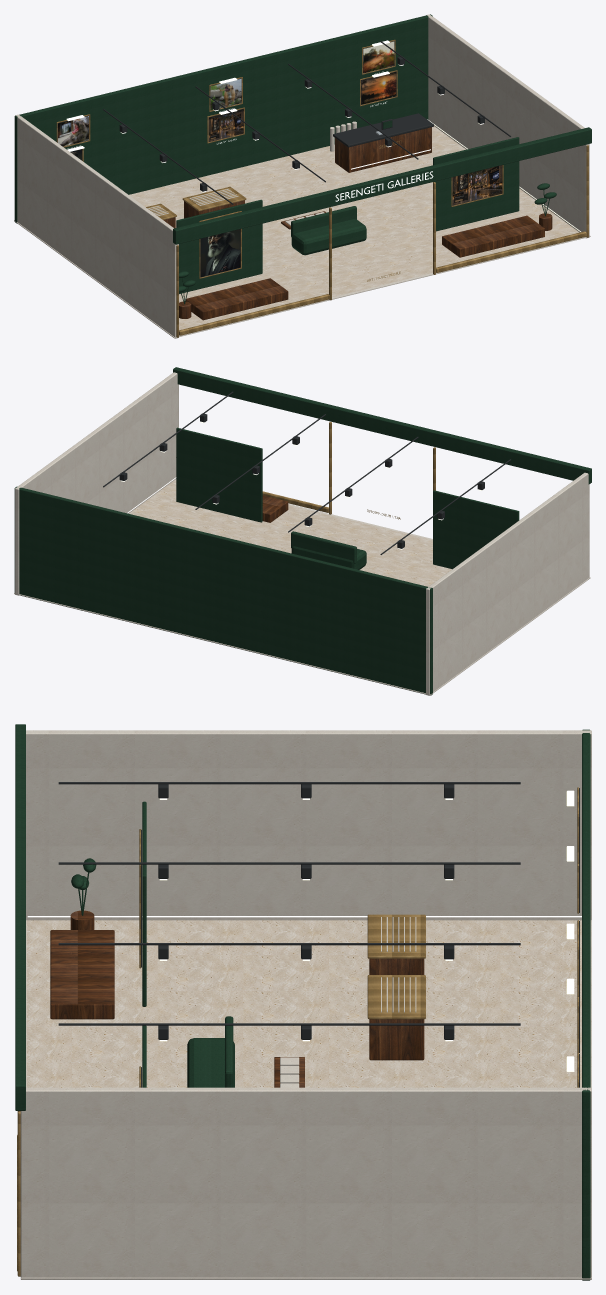
Rendered from Serengeti-Galleries.glb.
3 renders of one model, top to bottom at view 1: azimuth 30°, elevation 25°; view 2: azimuth 150°, elevation 25°; view 3: azimuth 270°, elevation 25°, orthographic. The views are drawn at different scales.
Parts seen in each view (by area): view 1: Higgsfield Serengeti green linen, Higgsfield gallery plaster, Serengeti ivory stone, Higgsfield walnut retail furniture, Higgsfield satin brass, Powder coated graphite, Window exhibition bill-foster.png, Window exhibition serengeti-gallery.png, Serengeti original detroit-sunset.jpg, Serengeti original serengeti-gallery.png, Serengeti original monarch.jpg, Serengeti original cat-portrait.jpg (+3 smaller); view 2: Higgsfield Serengeti green linen, Higgsfield gallery plaster, Serengeti ivory stone, Powder coated graphite, Higgsfield satin brass, Higgsfield walnut retail furniture; view 3: Higgsfield gallery plaster, Serengeti ivory stone, Higgsfield Serengeti green linen, Higgsfield walnut retail furniture, Powder coated graphite, Higgsfield satin brass, Warm retail lighting.
Part boxes in pixels (<box>): Higgsfield Serengeti green linen: <box>14,14,591,304</box>; Higgsfield gallery plaster: <box>14,14,590,338</box>; Serengeti ivory stone: <box>129,126,579,330</box>; Higgsfield walnut retail furniture: <box>163,127,552,320</box>; Higgsfield satin brass: <box>56,39,588,337</box>; Powder coated graphite: <box>57,41,510,277</box>; Window exhibition bill-foster.png: <box>200,229,240,276</box>; Window exhibition serengeti-gallery.png: <box>452,165,502,205</box>; Serengeti original detroit-sunset.jpg: <box>361,72,396,104</box>; Serengeti original serengeti-gallery.png: <box>209,109,243,141</box>; Serengeti original monarch.jpg: <box>363,41,394,72</box>; Serengeti original cat-portrait.jpg: <box>58,116,88,146</box>; Higgsfield Serengeti green linen: <box>14,367,591,695</box>; Higgsfield gallery plaster: <box>14,372,590,695</box>; Serengeti ivory stone: <box>129,479,451,586</box>; Powder coated graphite: <box>103,391,510,554</box>; Higgsfield satin brass: <box>262,422,435,519</box>; Higgsfield walnut retail furniture: <box>262,495,288,522</box>; Higgsfield gallery plaster: <box>20,730,591,1279</box>; Serengeti ivory stone: <box>26,920,581,1087</box>; Higgsfield Serengeti green linen: <box>15,724,590,1280</box>; Higgsfield walnut retail furniture: <box>50,910,424,1087</box>; Powder coated graphite: <box>58,782,579,1087</box>; Higgsfield satin brass: <box>17,787,578,1276</box>; Warm retail lighting: <box>27,790,581,1071</box>.
Size of the model in its own units: 18 by 4.58 by 12.14.
15 materials, 11 textured.
